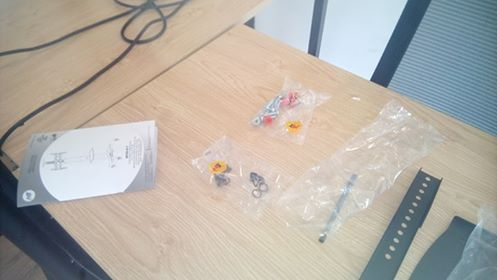plastic bag: (267, 98, 448, 248), (193, 133, 295, 205), (252, 75, 330, 147), (444, 204, 497, 278)
